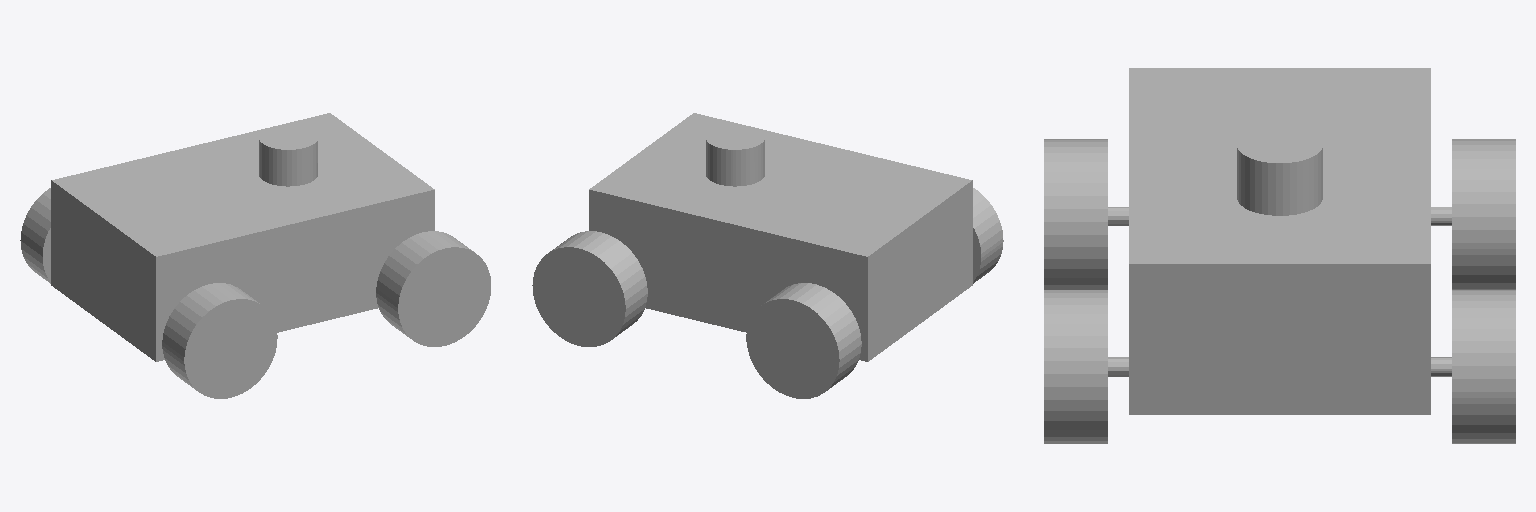
The robot description file, URDF, robot "octa_kit":
<?xml version="1.0" encoding="utf-8"?>
<!-- This URDF was automatically created by SolidWorks to URDF Exporter! Originally created by [author] ([email redacted]) 
     Commit Version: 1.6.0-1-g15f4949  Build Version: 1.6.7594.29634
     For more information, please see http://wiki.ros.org/sw_urdf_exporter -->
<robot
  name="octa_kit">
 <link name="base_footprint"/>

  <joint name="base_joint" type="fixed">
    <parent link="base_footprint"/>
    <child link="base_link"/>
    <origin xyz="0.0 0.0 0.10" rpy="0 0 0"/>
  </joint>

  <link
    name="base_link">
    <inertial>
      <origin
        xyz="0.000117690212319915 -0.00925270512769411 0.000380509137160229"
        rpy="0 0 0" />
      <mass
        value="18.6538067263594" />
      <inertia
        ixx="0.159122798446346"
        ixy="-4.9571479079817E-18"
        ixz="0.000414410887862077"
        iyy="0.324672654840652"
        iyz="-5.89241921255454E-16"
        izz="0.409098676308978" />
    </inertial>
    <visual>
      <origin
        xyz="0 0 0"
        rpy="0 0 0" />
      <geometry>
        <mesh
          filename="package://octa_kit/meshes/base_link.STL" />
      </geometry>
      <material
        name="">
        <color
          rgba="0.752941176470588 0.752941176470588 0.752941176470588 1" />
      </material>
    </visual>
    <collision>
      <origin
        xyz="0 0 0"
        rpy="0 0 0" />
      <geometry>
        <mesh
          filename="package://octa_kit/meshes/base_link.STL" />
      </geometry>
    </collision>
  </link>

  <link
    name="FLwheel">
    <inertial>
      <origin
        xyz="-6.66133814775094E-16 -0.0298201892744482 1.11022302462516E-16"
        rpy="0 0 0" />
      <mass
        value="0.968000094794702" />
      <inertia
        ixx="0.00153802084703046"
        ixy="-1.11213418059244E-19"
        ixz="9.80169648631589E-21"
        iyy="0.00249087647105689"
        iyz="6.77145279022122E-18"
        izz="0.00153802084703046" />
    </inertial>
    <visual>
      <origin
        xyz="0 0 0"
        rpy="0 0 0" />
      <geometry>
        <mesh
          filename="package://octa_kit/meshes/FLwheel.STL" />
      </geometry>
      <material
        name="">
        <color
          rgba="0.752941176470588 0.752941176470588 0.752941176470588 1" />
      </material>
    </visual>
    <collision>
      <origin
        xyz="0 0 0"
        rpy="0 0 0" />
      <geometry>
        <mesh
          filename="package://octa_kit/meshes/FLwheel.STL" />
      </geometry>
    </collision>
  </link>
  <joint
    name="FLwheel_joint"
    type="continuous">
    <origin
      xyz="0.185054728559495 0.209747294872306 -0.0424494072951783"
      rpy="0 0 0" />
    <parent
      link="base_link" />
    <child
      link="FLwheel" />
    <axis
      xyz="0 1 0" />
  </joint>

  <link
    name="FRwheel">
    <inertial>
      <origin
        xyz="2.5258E-13 0.02982 3.8046E-13"
        rpy="0 0 0" />
      <mass
        value="0.968" />
      <inertia
        ixx="0.001538"
        ixy="-6.8076E-18"
        ixz="2.3605E-32"
        iyy="0.0024909"
        iyz="-3.319E-18"
        izz="0.001538" />
    </inertial>
    <visual>
      <origin
        xyz="0 0 0"
        rpy="0 0 0" />
      <geometry>
        <mesh
          filename="package://octa_kit/meshes/FRwheel.STL" />
      </geometry>
      <material
        name="">
        <color
          rgba="0.75294 0.75294 0.75294 1" />
      </material>
    </visual>
    <collision>
      <origin
        xyz="0 0 0"
        rpy="0 0 0" />
      <geometry>
        <mesh
          filename="package://octa_kit/meshes/FRwheel.STL" />
      </geometry>
    </collision>
  </link>
  <joint
    name="FRwheel_joint"
    type="continuous">
    <origin
      xyz="0.18505 -0.22825 -0.042449"
      rpy="0 0 0" />
    <parent
      link="base_link" />
    <child
      link="FRwheel" />
    <axis
      xyz="0 1 0" />
  </joint>

  <link
    name="BLwheel">
    <inertial>
      <origin
        xyz="-1.99840144432528E-15 -0.0298201892744719 2.46566655981439E-13"
        rpy="0 0 0" />
      <mass
        value="0.968000094794702" />
      <inertia
        ixx="0.00153802084703046"
        ixy="-1.75634317457627E-20"
        ixz="-1.71779884189411E-34"
        iyy="0.00249087647105689"
        iyz="3.31896837401117E-18"
        izz="0.00153802084703046" />
    </inertial>
    <visual>
      <origin
        xyz="0 0 0"
        rpy="0 0 0" />
      <geometry>
        <mesh
          filename="package://octa_kit/meshes/BLwheel.STL" />
      </geometry>
      <material
        name="">
        <color
          rgba="0.752941176470588 0.752941176470588 0.752941176470588 1" />
      </material>
    </visual>
    <collision>
      <origin
        xyz="0 0 0"
        rpy="0 0 0" />
      <geometry>
        <mesh
          filename="package://octa_kit/meshes/BLwheel.STL" />
      </geometry>
    </collision>
  </link>
  <joint
    name="BLwheel_joint"
    type="continuous">
    <origin
      xyz="-0.14494 0.20975 -0.041894"
      rpy="0 0 0" />
    <parent
      link="base_link" />
    <child
      link="BLwheel" />
    <axis
      xyz="0 1 0" />
  </joint>

  <link
    name="BRwheel">
    <inertial>
      <origin
        xyz="-6.9389E-18 0.02982 2.0817E-16"
        rpy="0 0 0" />
      <mass
        value="0.968" />
      <inertia
        ixx="0.001538"
        ixy="-5.5078E-20"
        ixz="9.4245E-21"
        iyy="0.0024909"
        iyz="6.6398E-18"
        izz="0.001538" />
    </inertial>
    <visual>
      <origin
        xyz="0 0 0"
        rpy="0 0 0" />
      <geometry>
        <mesh
          filename="package://octa_kit/meshes/BRwheel.STL" />
      </geometry>
      <material
        name="">
        <color
          rgba="0.75294 0.75294 0.75294 1" />
      </material>
    </visual>
    <collision>
      <origin
        xyz="0 0 0"
        rpy="0 0 0" />
      <geometry>
        <mesh
          filename="package://octa_kit/meshes/BRwheel.STL" />
      </geometry>
    </collision>
  </link>
  <joint
    name="BRwheel_joint"
    type="continuous">
    <origin
      xyz="-0.14494 -0.22825 -0.041894"
      rpy="0 0 0" />
    <parent
      link="base_link" />
    <child
      link="BRwheel" />
    <axis
      xyz="0 1 0" />
  </joint>

  <link
    name="Lidar">
    <inertial>
      <origin
        xyz="-4.74912061091681E-05 -2.77555756156289E-16 -5.40461726995511E-05"
        rpy="0 0 0" />
      <mass
        value="0.271383339787701" />
      <inertia
        ixx="0.000174496418474111"
        ixy="-1.59285810829418E-20"
        ixz="7.18404565369169E-08"
        iyy="0.000174496297464885"
        iyz="-3.14491390259019E-19"
        izz="0.000217146361083041" />
    </inertial>
    <visual>
      <origin
        xyz="0 0 0"
        rpy="0 0 0" />
      <geometry>
        <mesh
          filename="package://octa_kit/meshes/Lidar.STL" />
      </geometry>
      <material
        name="">
        <color
          rgba="0.752941176470588 0.752941176470588 0.752941176470588 1" />
      </material>
    </visual>
    <collision>
      <origin
        xyz="0 0 0"
        rpy="0 0 0" />
      <geometry>
        <mesh
          filename="package://octa_kit/meshes/Lidar.STL" />
      </geometry>
    </collision>
  </link>
  <joint
    name="Lidar_joint"
    type="fixed">
    <origin
      xyz="0.07035 -0.00925270512769483 0.104803046232921"
      rpy="0 0 0" />
    <parent
      link="base_link" />
    <child
      link="Lidar" />
    <axis
      xyz="0.00168441377404183 0 0.999998581374113" />
  </joint>


<!-- Transmission Blocks-->
  <transmission name="FRwheel_joint_wheel_trans">
       <type>transmission_interface/SimpleTransmission</type>
       <actuator name="FRwheel_joint">
         <hardwareInterface>VelocityJointInterface</hardwareInterface>
         <mechanicalReduction>1</mechanicalReduction>
       </actuator>
       <joint name="FRwheel_joint">
         <hardwareInterface>hardware_interface/VelocityJointInterface</hardwareInterface>
       </joint>
  </transmission>

  <transmission name="FLwheel_joint_wheel_trans">
       <type>transmission_interface/SimpleTransmission</type>
       <actuator name="FLwheel_joint">
         <hardwareInterface>VelocityJointInterface</hardwareInterface>
         <mechanicalReduction>1</mechanicalReduction>
       </actuator>
       <joint name="FLwheel_joint">
         <hardwareInterface>hardware_interface/VelocityJointInterface</hardwareInterface>
       </joint>
  </transmission>

  <transmission name="BRwheel_joint_wheel_trans">
       <type>transmission_interface/SimpleTransmission</type>
       <actuator name="BRwheel_joint">
         <hardwareInterface>VelocityJointInterface</hardwareInterface>
         <mechanicalReduction>1</mechanicalReduction>
       </actuator>
       <joint name="BRwheel_joint">
         <hardwareInterface>hardware_interface/VelocityJointInterface</hardwareInterface>
       </joint>
  </transmission>

  <transmission name="BLwheel_joint_wheel_trans">
       <type>transmission_interface/SimpleTransmission</type>
       <actuator name="BLwheel_joint">
         <hardwareInterface>VelocityJointInterface</hardwareInterface>
         <mechanicalReduction>1</mechanicalReduction>
       </actuator>
       <joint name="BLwheel_joint">
         <hardwareInterface>hardware_interface/VelocityJointInterface</hardwareInterface>
       </joint>
  </transmission>

<!-- Gazebo Plug-in -->
  <gazebo>
    <plugin name="gazebo_ros_control" filename= "libgazebo_ros_control.so">
  	 <robotNamespace>/</robotNamespace>
    </plugin>
  </gazebo> 

<!-- Omni Plug-in -->
  <gazebo>
	<plugin name="omni_steering" filename="libgazebo_ros_planar_move.so">
	  <commandTopic>cmd_vel</commandTopic>
	  <odometryTopic>odom</odometryTopic>
	  <odometryFrame>odom</odometryFrame>
          <publishOdomTF>true</publishOdomTF>
          <odometrySource>Final_maze</odometrySource>
          <!--odometryRate>10.0</odometryRate-->
          <updateRate>10.0</updateRate>
          <robotBaseFrame>base_footprint</robotBaseFrame>
          <publishTF>true</publishTF>
	</plugin>
  </gazebo>

<!-- Sensor -->
  <gazebo reference="Lidar">
    <material>Gazebo/FlatBlack</material>
    <sensor type="ray" name="rplidar">
      <pose>-4.74912061091681E-05 -2.77555756156289E-16 -5.40461726995511E-05 0 0 0</pose>
      <visualize>true</visualize>
      <update_rate>10</update_rate>
      <ray>
        <scan>
          <horizontal>
            <samples>360</samples>
            <resolution>1</resolution>
            <min_angle>0.0</min_angle>
            <max_angle>6.28319</max_angle>
          </horizontal>
        </scan>
        <range>
          <min>0.15</min>
          <max>6</max>
          <resolution>0.5</resolution>
        </range> 
        <noise>
          <type>gaussian</type>
          <mean>0.0</mean>
          <stddev>0.01</stddev>
        </noise>
      </ray>
      <always_on>1</always_on>
      <plugin name="gazebo_ros_lds_lfcd_controller" filename="libgazebo_ros_laser.so">
        <topicName>scan</topicName>
        <frameName>Lidar</frameName>
      </plugin>
    </sensor>
  </gazebo>

  <gazebo reference="FLwheel">
    <kp>500000.0</kp>
    <kd>10.0</kd>
    <material>Gazebo/Red</material>
  </gazebo>

  <gazebo reference="FRwheel">
    <kp>500000.0</kp>
    <kd>10.0</kd>
    <material>Gazebo/Red</material>
  </gazebo>

  <gazebo reference="BRwheel">
    <kp>1000000.0</kp>
    <kd>100.0</kd>
    <material>Gazebo/Red</material>
  </gazebo>

  <gazebo reference="BLwheel">
    <kp>1000000.0</kp>
    <kd>100.0</kd>
    <material>Gazebo/Red</material>
  </gazebo>



</robot>

--- What the picture shows (computed from the rendered views, not written in the file) ---
Views: 3 orthographic renders of the robot side by side, from view 1: azimuth 30°, elevation 25°; view 2: azimuth 150°, elevation 25°; view 3: azimuth 270°, elevation 25°.
Robot: octa_kit — 7 links, 6 joints (4 continuous, 2 fixed); root link base_footprint; default pose: every joint at zero.
Links seen in each view (by area): view 1: base_link, FRwheel, BRwheel, Lidar, BLwheel; view 2: base_link, FLwheel, BLwheel, Lidar, BRwheel; view 3: base_link, FLwheel, FRwheel, BLwheel, BRwheel, Lidar.
Boxes of the visible links, box(x1,y1,x2,y2) form: base_link: box(51, 113, 434, 361); FRwheel: box(376, 231, 490, 346); BRwheel: box(162, 283, 277, 398); Lidar: box(259, 125, 317, 186); BLwheel: box(20, 188, 50, 283); base_link: box(589, 113, 972, 361); FLwheel: box(532, 231, 647, 346); BLwheel: box(746, 283, 861, 398); Lidar: box(706, 125, 764, 186); BRwheel: box(973, 188, 1003, 283); base_link: box(1129, 68, 1430, 414); FLwheel: box(1431, 290, 1515, 443); FRwheel: box(1044, 290, 1128, 443); BLwheel: box(1431, 139, 1515, 289); BRwheel: box(1044, 139, 1128, 289); Lidar: box(1237, 127, 1322, 215).
Bounding box of the posed robot: 0.474 × 0.438 × 0.2462 m (x, y, z).
Meshes: 6 distinct files referenced, 6 mesh visuals loaded (6 binary STL).
